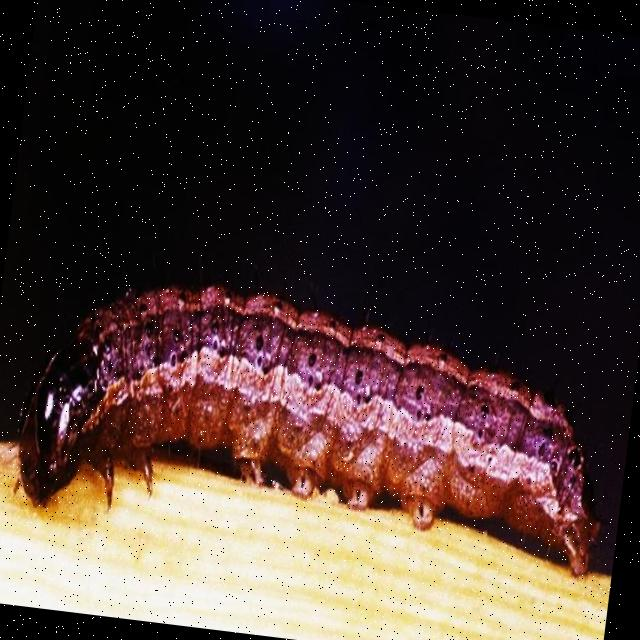worm: (8, 261, 626, 583)
